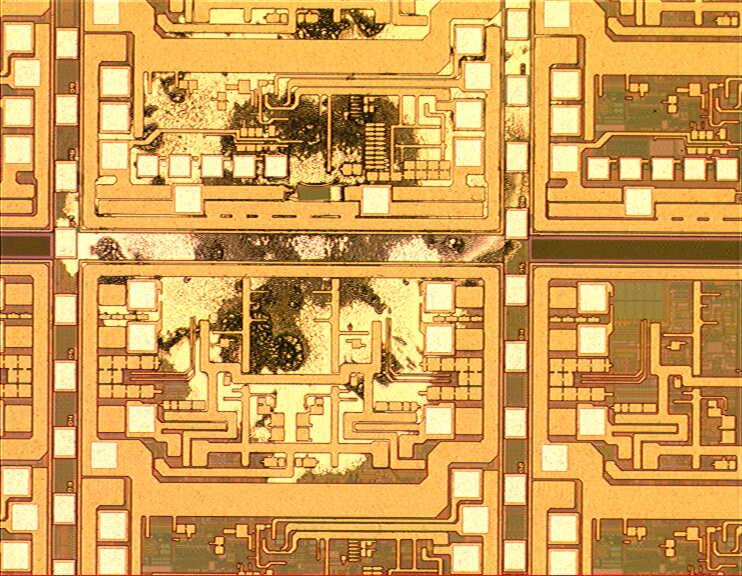BLOCK ETCH: (45, 1, 576, 493)
